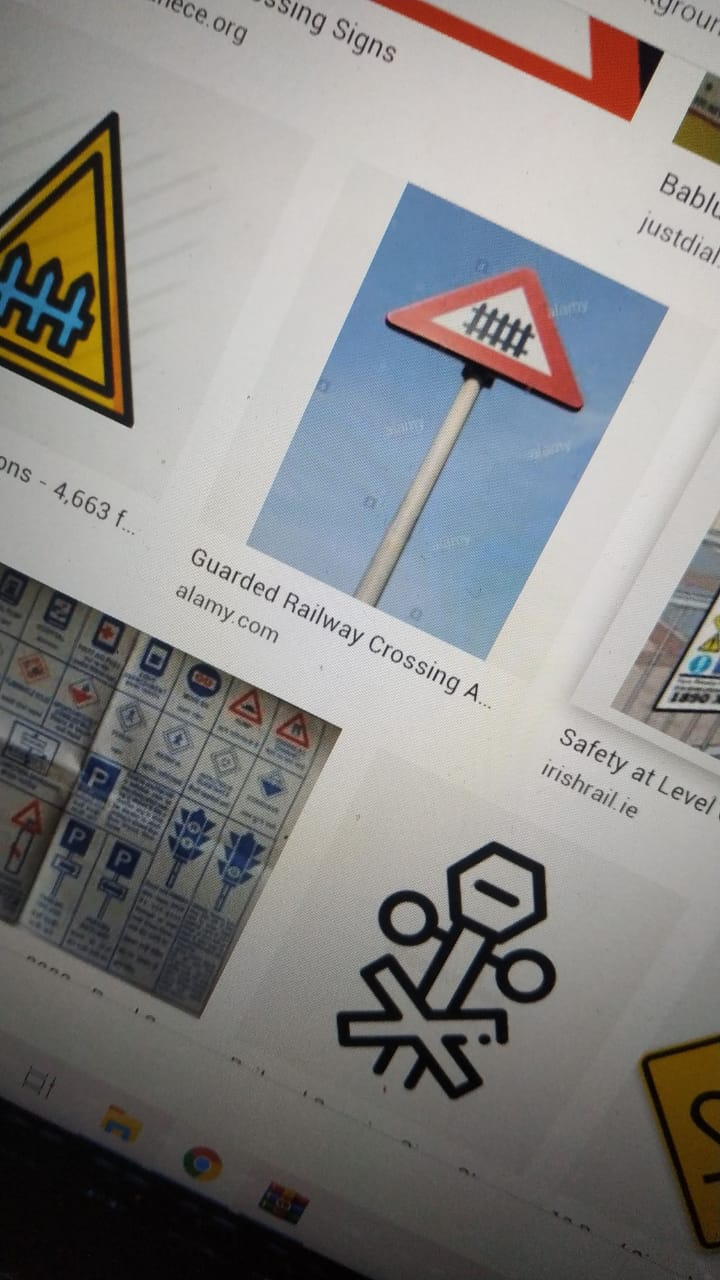GUARDED LEVEL CROSSING: (371, 181, 609, 419)
